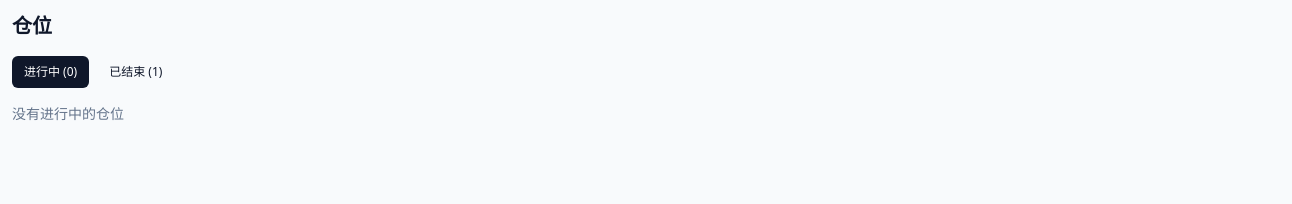
files an abandoned position under 已结束 even though qty is non-zero
This screenshot has width=1292, height=204.
Click the button "已结束 (1)" at [136, 72], box x1=97 y1=56 x2=174 y2=88
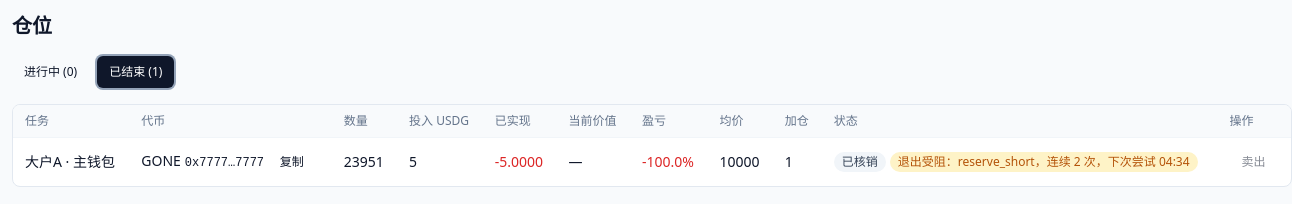
Expected: the button "进行中 (0)" is shown, x1=12 y1=56 x2=89 y2=88
Now the text "已核销" is shown, box x1=834 y1=152 x2=886 y2=172
Now the text "-100.0%" is shown, box x1=642 y1=152 x2=694 y2=171
